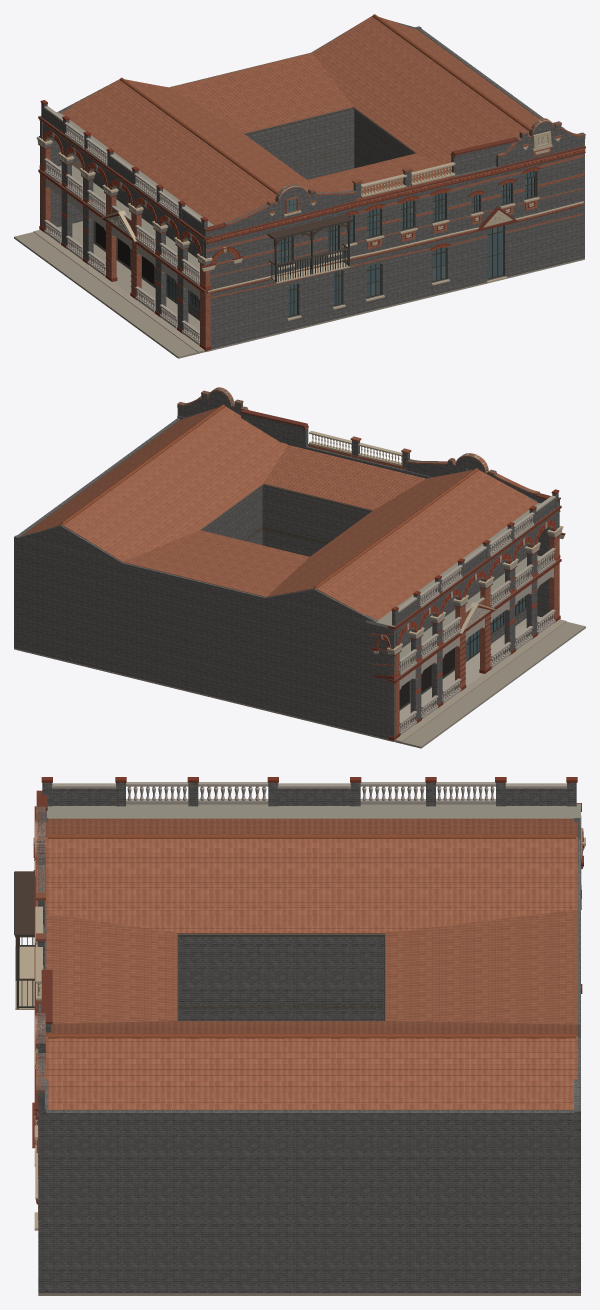
File: putuo-nanlin-normal-school-brick-villa-web.glb
3 renders of one model, top to bottom at view 1: azimuth 30°, elevation 25°; view 2: azimuth 150°, elevation 25°; view 3: azimuth 270°, elevation 25°, orthographic. The views are drawn at different scales.
Parts seen in each view (by area): view 1: 原南林师范学校旧址（陈楚湘住宅旧址）; view 2: 原南林师范学校旧址（陈楚湘住宅旧址）; view 3: 原南林师范学校旧址（陈楚湘住宅旧址）.
Boxes of the visible parts, x1,y1,x2,y2 form: 原南林师范学校旧址（陈楚湘住宅旧址）: (14,14,585,358); 原南林师范学校旧址（陈楚湘住宅旧址）: (14,387,585,748); 原南林师范学校旧址（陈楚湘住宅旧址）: (14,777,585,1295).
Size of the model in its own units: 31.61 by 11.15 by 23.5.
Materials: 30 (3 with a texture image).
